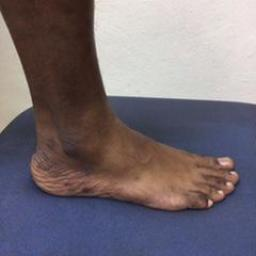Lateral View -Right Foot-: (26, 96, 245, 219)
